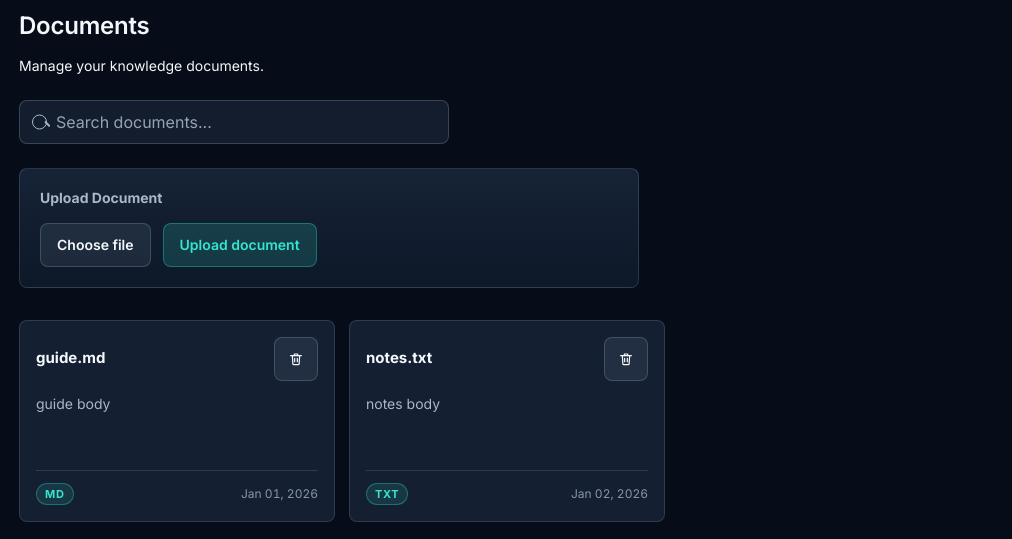
DocumentsPage › shows a 'no documents found' state when the search has no results
Expected: the heading "guide.md" is shown, x1=36 y1=348 x2=105 y2=367
Type "zzz" into the field with placeholder "Search documents...". click: (234, 122)
box: x1=19 y1=100 x2=449 y2=144
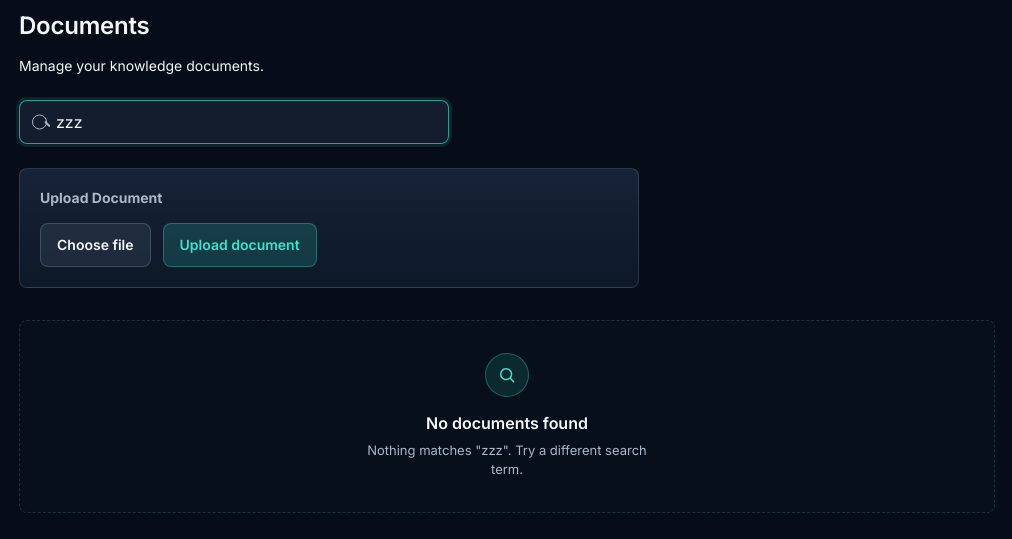
Expected: the heading "No documents found" is shown, x1=426 y1=412 x2=588 y2=432
